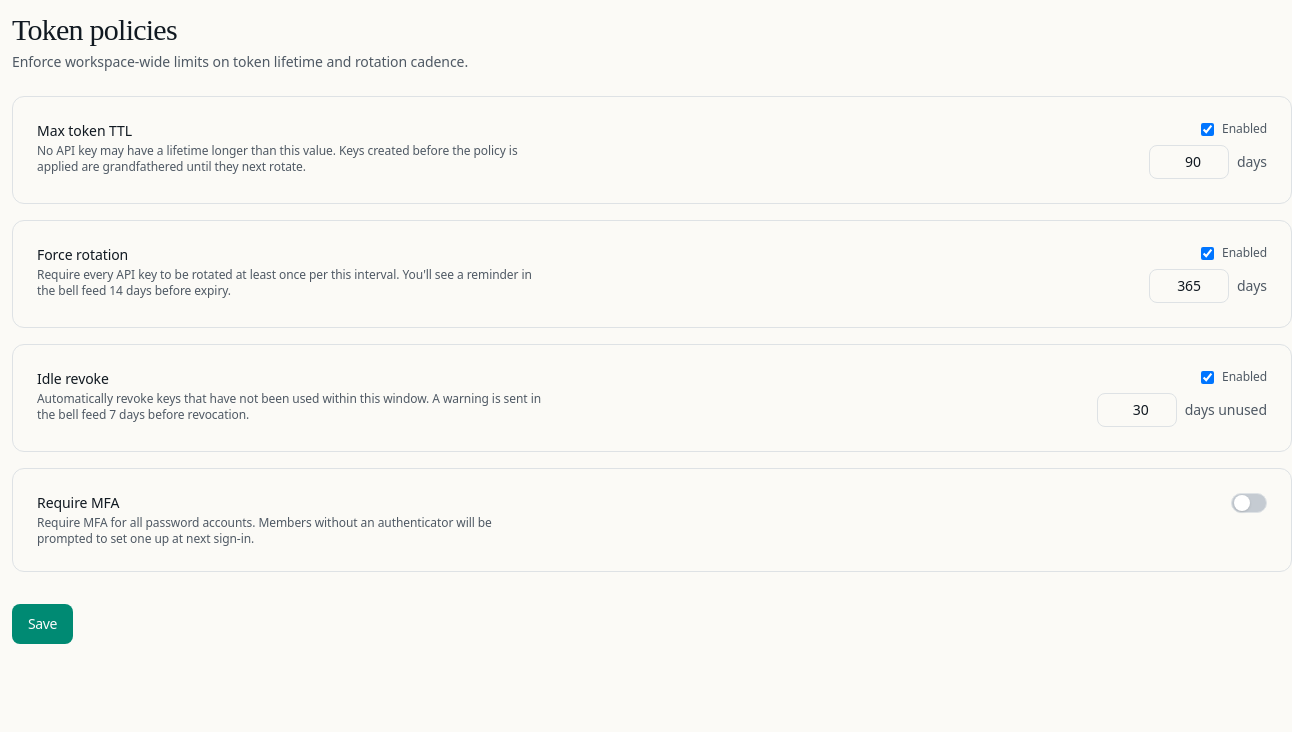
Test: PoliciesPanel › SEC-065: rejects idle_revoke_days < 7 inline
The width and height of the screenshot is (1292, 732).
Replace the text in the number field named "idle revocation threshold in days" with "3" at (1137, 410), box [1097,393,1177,427]
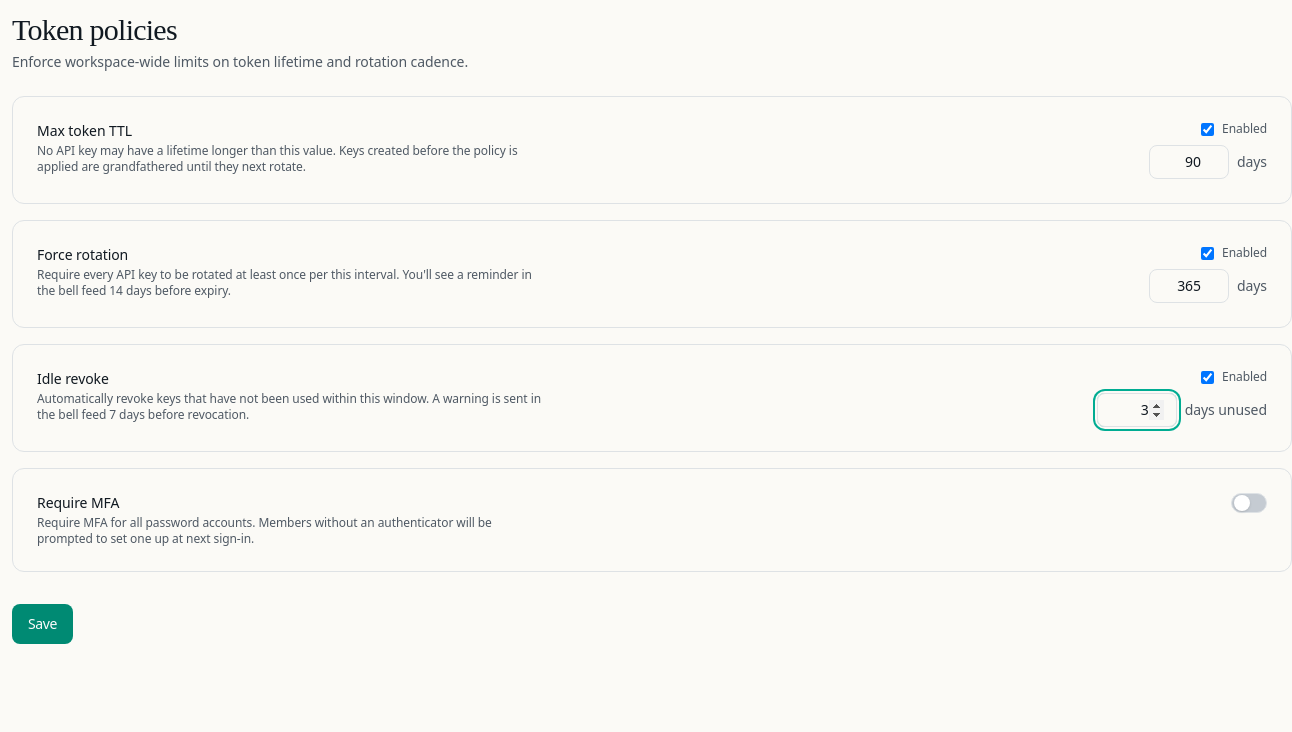
Click the button "Save" at (43, 624), box [12,604,73,644]
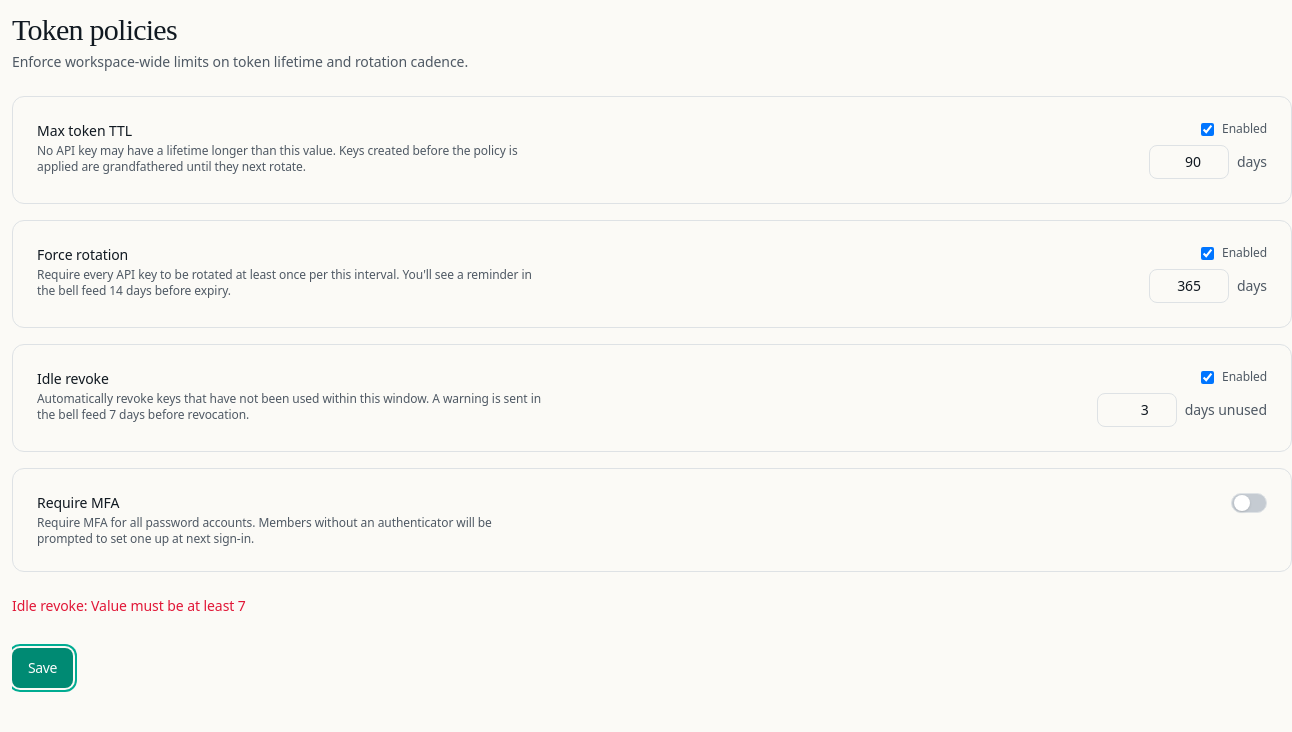
Expected: the message reads "Idle revoke: Value must be at least 7", [12,596,246,615]
